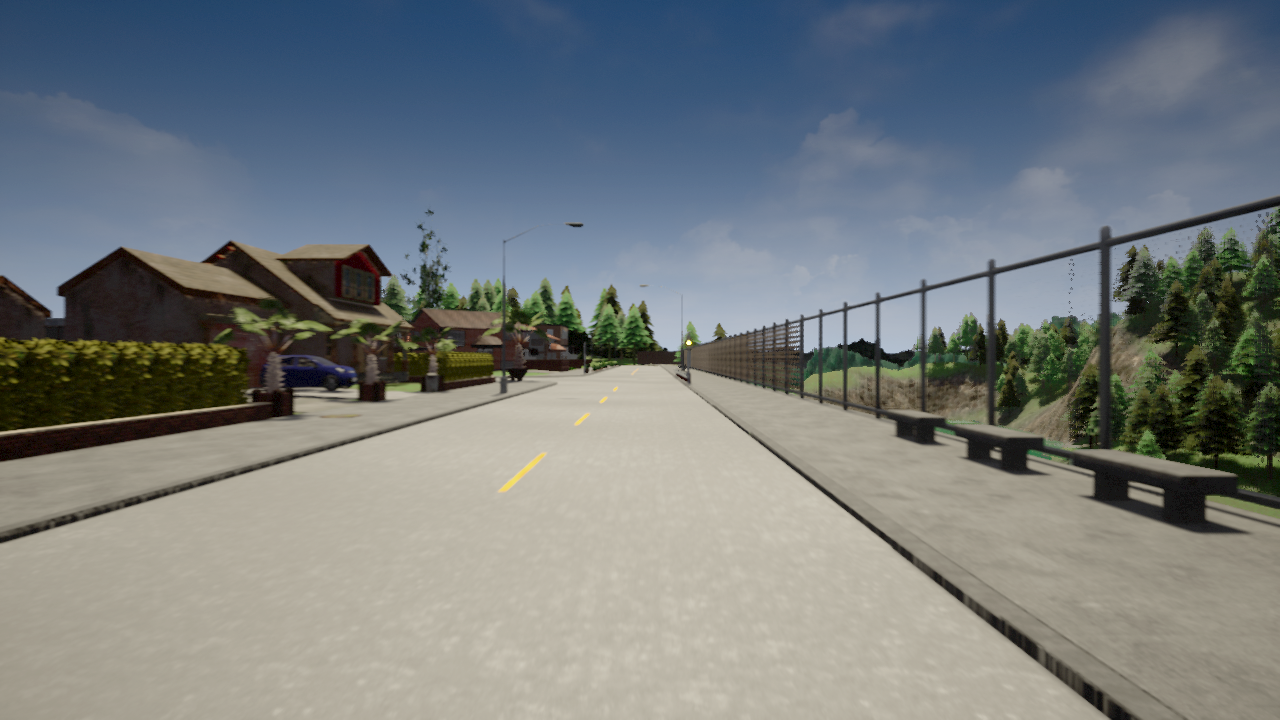yellow: (685, 334, 692, 352)
